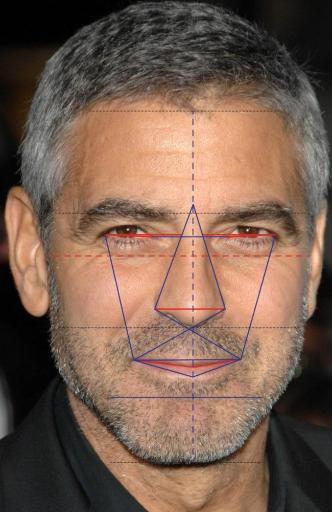left_eye: (224, 223, 283, 248)
left_lip_corner: (225, 345, 244, 374)
right_eye: (98, 221, 150, 247)
right_lip_corner: (130, 348, 152, 373)
